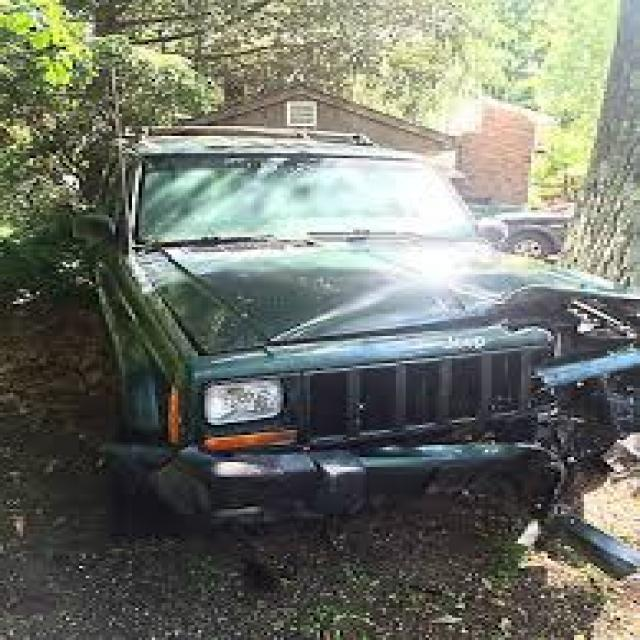moderate: (483, 256, 640, 464)
